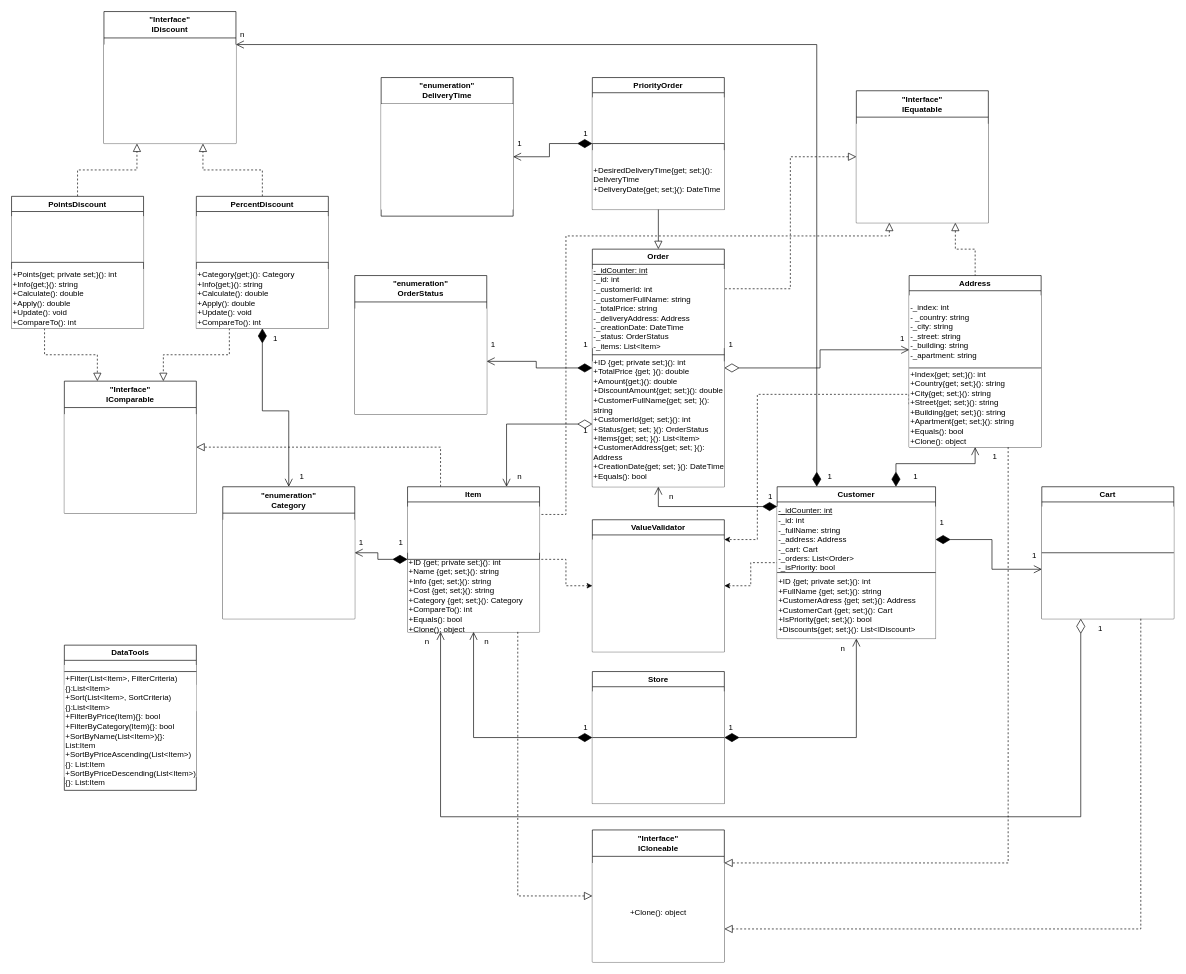
Image size: 1186x974. Some labels were removed from this diagram. Here are the shapes that lost their labels. From the top down, the centre of each, then its label:
point 170,93: +Info{get;}(): string +Calculate(): double +Apply(): double +Update(): void
point 658,120: -_deliveryTime: DeliveryTime -_deliveryDate: DateTime
point 447,156: Morning, Lunch, Afternoon, Evening, LateEvening, Night
point 922,172: +Equals(): bool
point 77,239: -_points: int
point 262,239: -_percent: int -_category: Category -_totalSum: double
point 420,361: New, Proccessing, Assembly, Sent, Delivered, Returned, Abandoned
point 130,463: +CompareTo(): int
point 473,529: -_idCounter: int -_id: int -_name: string -_info: string -_cost: int
point 1107,529: -_items: List<Item>
point 288,568: Food, Clothes, Boots, Toys, Electronics, Accessories, Books
point 1107,585: + Items{ get; set; }(): List<Item> + Amount{ get; }(): float +Clone(): object
point 658,595: +AssertStringOnLength(string, int, string): void
point 658,714: -_items: List<Item> -_customers: List<Customer>
point 658,770: + Items{ get; set; }(): List<Item> + Customers{ get; set; }(): List<Customer >
